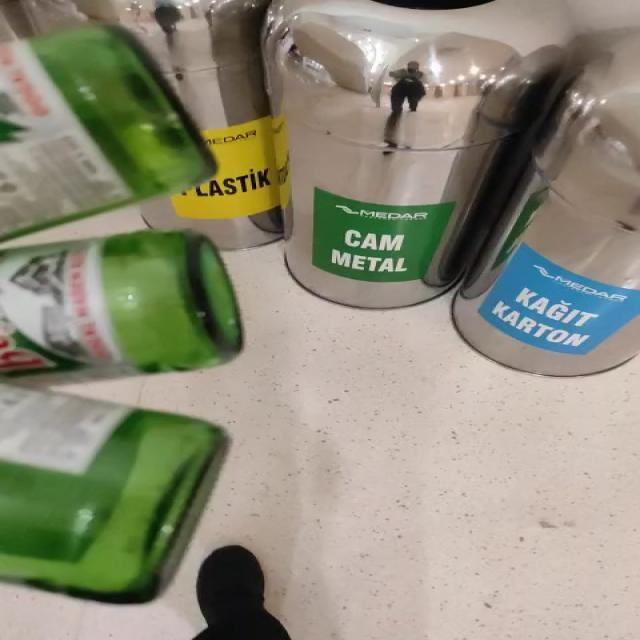bin: (265, 0, 573, 309)
glass: (3, 387, 227, 604), (0, 23, 213, 239), (1, 230, 243, 381)
